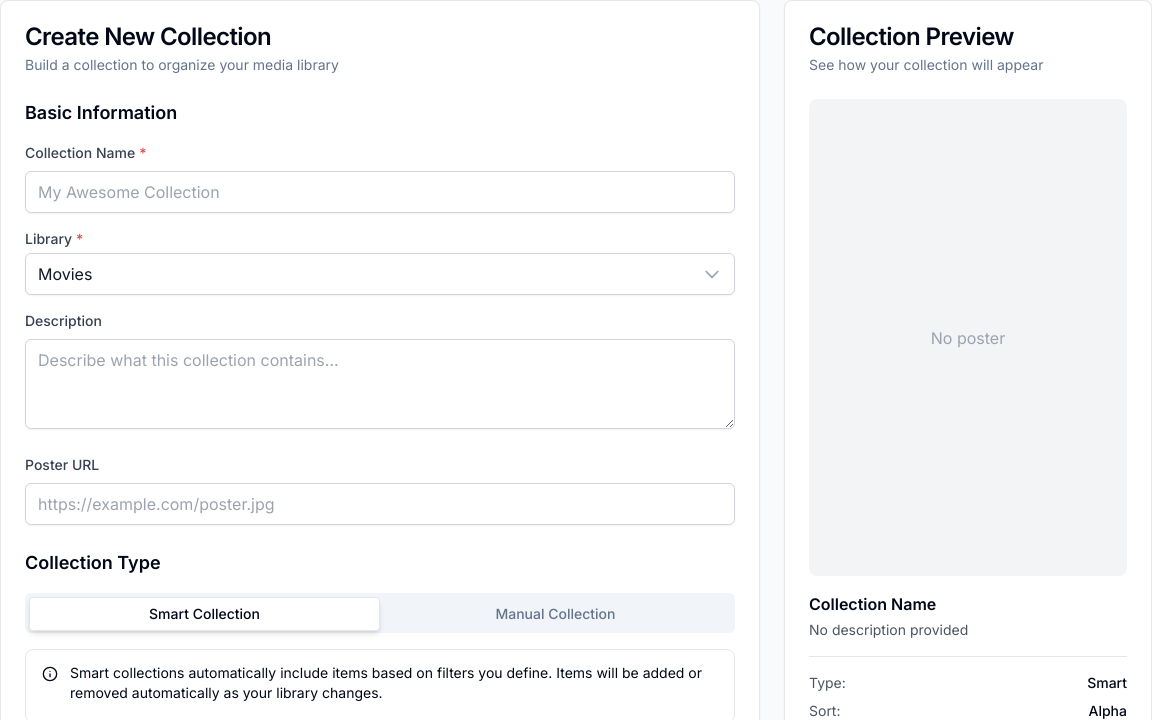
Test case: CollectionBuilder › updates preview when form values change
// Type collection name
Step 1. Type "Preview Test" into the field labelled "Collection Name" → (380, 192), box [25, 171, 735, 213]
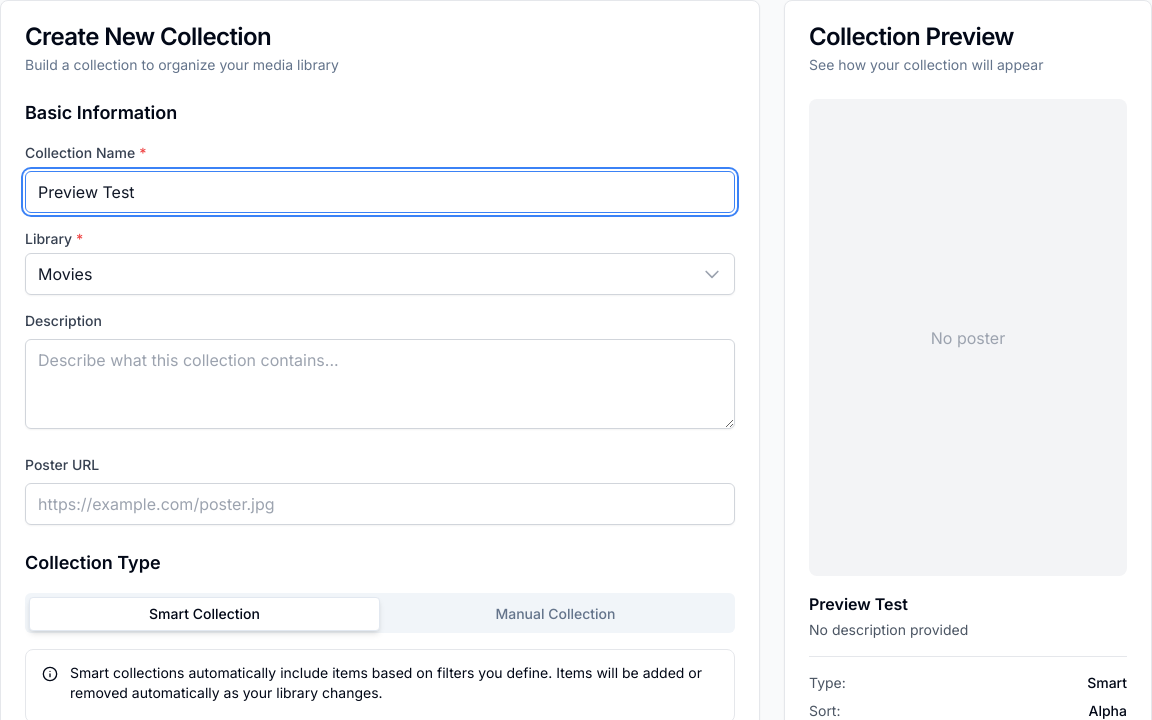
Expected: the heading "Preview Test" is shown, [809, 594, 908, 614]
